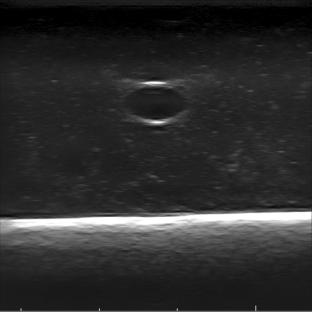vessel: (120, 80, 190, 125)
